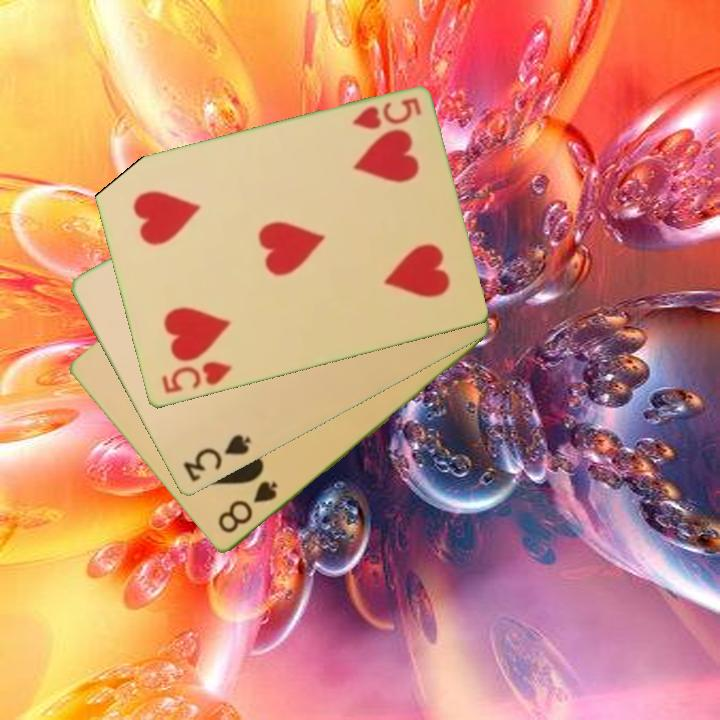3s: (179, 431, 254, 486)
5h: (157, 358, 235, 397), (348, 94, 424, 133)
8s: (214, 478, 281, 537)
